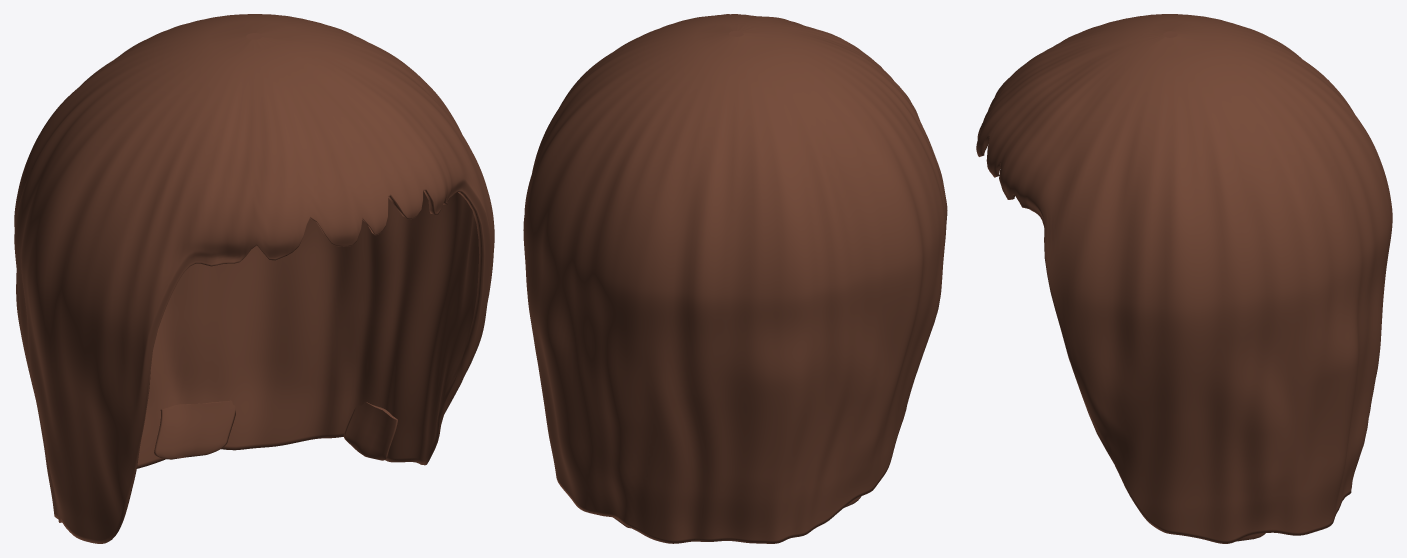
File: depth.glb
The picture shows the model from 3 angles, left to right: view 1: azimuth 30°, elevation 25°; view 2: azimuth 150°, elevation 25°; view 3: azimuth 270°, elevation 25°; orthographic projection. The views are drawn at different scales.
Parts seen in each view (by area): view 1: Hair / soft brow fringe; view 2: Hair / soft brow fringe; view 3: Hair / soft brow fringe.
Part boxes in pixels (x1,y1,x2,y2): Hair / soft brow fringe: (14,14,494,543); Hair / soft brow fringe: (523,14,947,543); Hair / soft brow fringe: (976,14,1392,543).
Bounding box in the file's own units: 0.8516 × 0.9549 × 0.7921.
